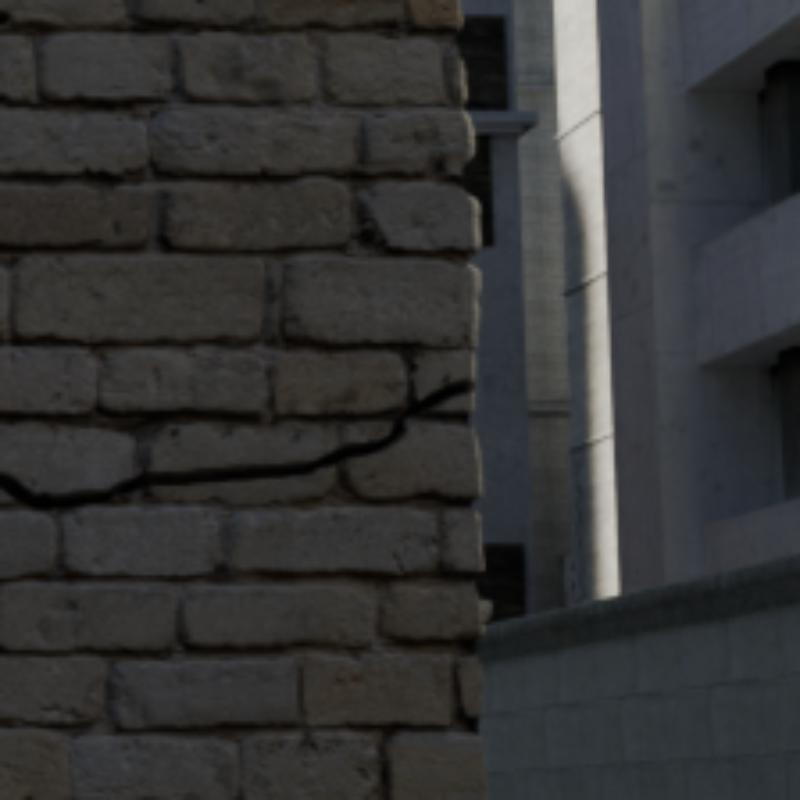pothole: (0, 379, 468, 507)
